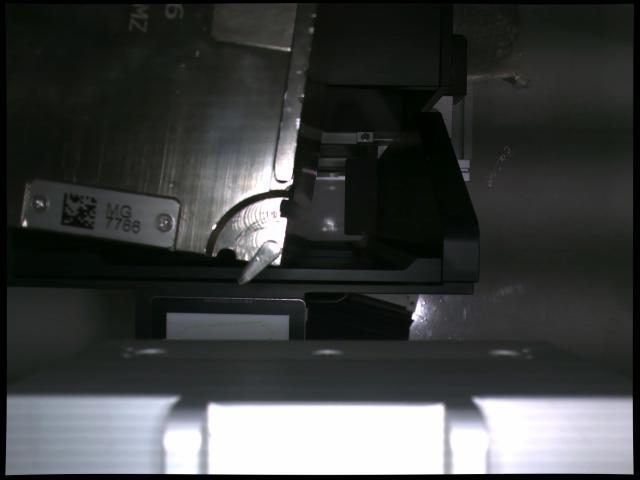jig_latch: (238, 240, 281, 284)
